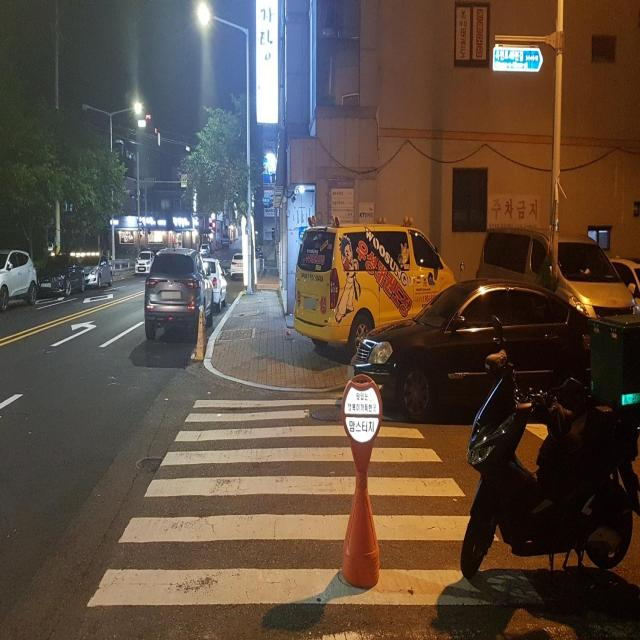횡단보도: (84, 395, 548, 611)
